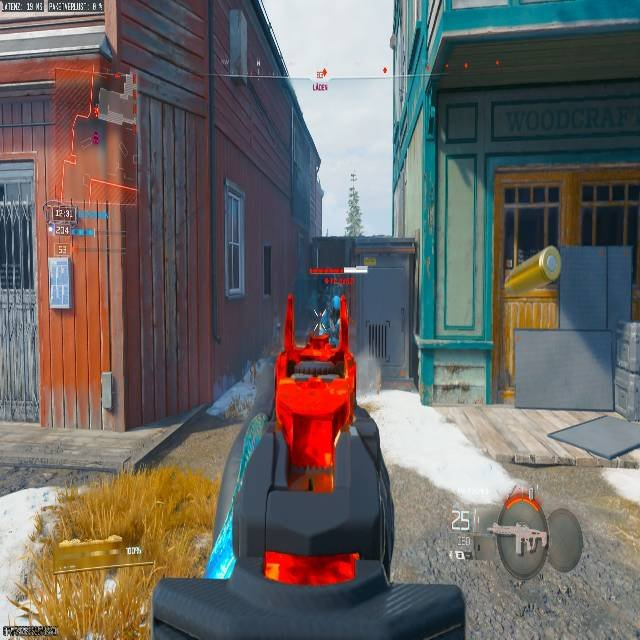player: (311, 284, 345, 347)
